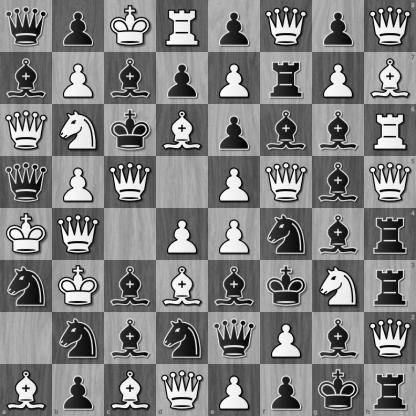B: (0, 364, 52, 416), (104, 364, 156, 416), (364, 52, 416, 104), (157, 105, 208, 156), (157, 261, 208, 312)
K: (1, 209, 52, 260), (53, 261, 104, 312), (105, 1, 156, 52)
N: (53, 105, 104, 156), (313, 261, 364, 312)
P: (209, 364, 260, 416), (53, 53, 104, 104), (53, 157, 104, 208), (157, 209, 208, 260), (209, 53, 260, 104), (209, 157, 260, 208), (209, 209, 260, 260), (261, 313, 312, 364), (313, 53, 364, 104)
Q: (156, 364, 209, 416), (364, 156, 416, 209), (364, 0, 416, 52), (364, 312, 416, 364), (1, 105, 52, 156), (53, 209, 104, 260), (105, 157, 156, 208), (261, 1, 312, 52), (261, 157, 312, 208)
R: (364, 104, 416, 156), (157, 1, 208, 52)
b: (1, 53, 52, 104), (105, 53, 156, 104), (105, 261, 156, 312), (105, 313, 156, 364), (209, 261, 260, 312), (261, 105, 312, 156), (313, 105, 364, 156), (313, 157, 364, 208), (313, 209, 364, 260), (313, 313, 364, 364)
board: (0, 0, 415, 415)
k: (312, 364, 364, 416), (105, 105, 156, 156), (261, 261, 312, 312)
n: (1, 261, 52, 312), (53, 313, 104, 364), (157, 313, 208, 364), (261, 209, 312, 260)
p: (52, 364, 104, 416), (260, 364, 312, 416), (53, 1, 104, 52), (157, 53, 208, 104), (209, 1, 260, 52), (209, 105, 260, 156), (313, 1, 364, 52)
q: (1, 1, 52, 52), (1, 157, 52, 208), (209, 313, 260, 364)
r: (364, 260, 416, 312), (364, 364, 416, 416), (364, 209, 416, 260), (261, 53, 312, 104)
